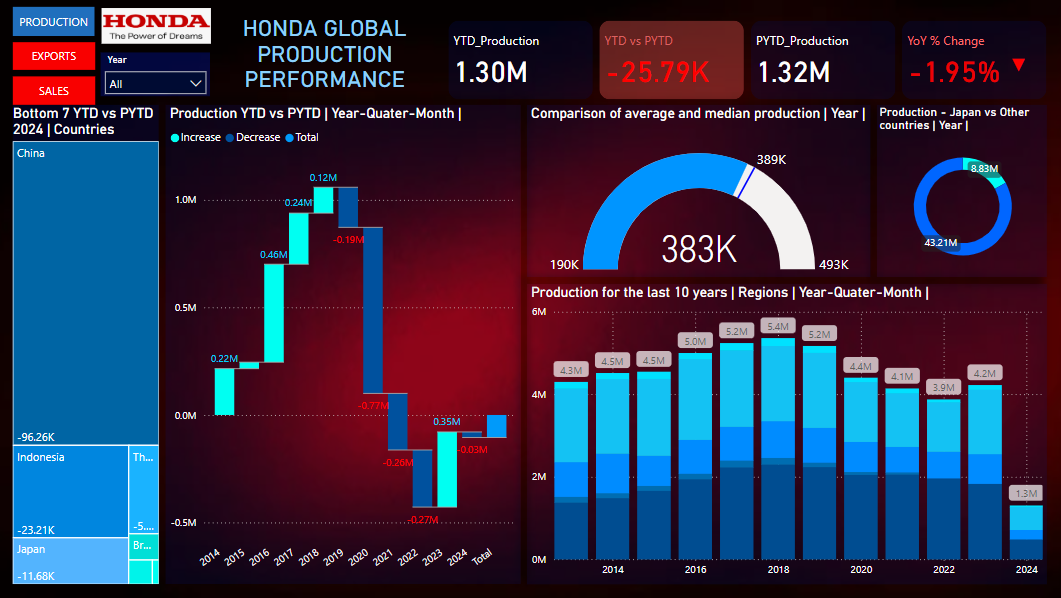

The dashboard page shown, as its layout file describes it:
{"tool":"powerbi","page":{"name":"Performance Report","canvas":[1280,720],"ordinal":0},"visuals":[{"type":"cardVisual","fields":{"Data":["_Measures.YTD_Production","_Measures.YTD_Production vs PYTD_Production","_Measures.PYTD_Production","_Measures.YoY_production_2024"]},"box":[541.2,24.5,721,95],"z":0},{"type":"lineStackedColumnComboChart","fields":{"Category":["Dim_date.Date.Variation.Date Hierarchy.Year","Dim_date.Date.Variation.Date Hierarchy.Quarter","Dim_date.Date.Variation.Date Hierarchy.Month"],"Series":["joined production 2013-24 pivot.Regions"],"Y":["Sum(joined production 2013-24 pivot.Value)"]},"box":[636.5,342,625.4,361],"z":1000},{"type":"treemap","title":"Bottom 7 YTD vs PYTD 2024 | Countries","fields":{"Group":["FY 2023-24 Production.Countries"],"Values":["_Measures.YTD_2024_Production vs PYTD_2024_Production"]},"box":[17.4,126.7,175.8,576.4],"z":2000},{"type":"slicer","fields":{"Values":["Dim_date.Date.Variation.Date Hierarchy.Year"]},"box":[123.5,63.3,132,52.3],"z":3000},{"type":"waterfallChart","fields":{"Y":["_Measures.YTD_Production vs PYTD_Production"],"Category":["Dim_date.Date.Variation.Date Hierarchy.Year","Dim_date.Date.Variation.Date Hierarchy.Quarter","Dim_date.Date.Variation.Date Hierarchy.Month"]},"box":[201.1,126.7,427,576.4],"z":4000},{"type":"donutChart","fields":{"Y":["Sum(joined production 2013-24.Japan)","Sum(joined production 2013-24.Outside of Japan)"]},"box":[1057.7,126.7,204.3,207.4],"z":5000},{"type":"actionButton","title":"Exports","box":[17.5,50.8,99.8,33.3],"z":7000},{"type":"actionButton","title":"Sales","box":[17,91.8,100.3,34],"z":8000},{"type":"gauge","fields":{"Y":["Avg(joined production 2013-24.Worldwide Total)"],"MinValue":["Min(joined production 2013-24.Worldwide Total)"],"MaxValue":["Max(joined production 2013-24.Worldwide Total)"],"TargetValue":["Median(joined production 2013-24.Worldwide Total)"]},"box":[636.5,126.7,413.3,207.4],"z":23000},{"type":"actionButton","title":"Production","box":[17.5,8.8,99.8,33.3],"z":26000},{"type":"image","box":[119.1,0,141.9,63.1],"z":29000},{"type":"card","fields":{"Values":["_Measures._Report_title"]},"box":[255.7,0,285.5,126.1],"z":30000},{"type":"card","fields":{"Values":["_Measures.YoY_%change_Icon_production"]},"box":[1209.7,63.3,34.8,31.7],"z":33000}]}

Visuals, with their boxes in screenshot pixels (x1, y1, x2, y2), scaled from the page's 1280x720 canvas onto the 1061x598 screenshot:
cardVisual - _Measures.YTD_Production x _Measures.YTD_Production vs PYTD_Production: x1=449 y1=20 x2=1046 y2=99
lineStackedColumnComboChart - Dim_date.Date.Variation.Date Hierarchy.Year x Dim_date.Date.Variation.Date Hierarchy.Quarter: x1=528 y1=284 x2=1046 y2=584
"Bottom 7 YTD vs PYTD 2024 | Countries" treemap: x1=14 y1=105 x2=160 y2=584
slicer - Dim_date.Date.Variation.Date Hierarchy.Year: x1=102 y1=53 x2=212 y2=96
waterfallChart - _Measures.YTD_Production vs PYTD_Production x Dim_date.Date.Variation.Date Hierarchy.Year: x1=167 y1=105 x2=521 y2=584
donutChart - Sum(joined production 2013-24.Japan) x Sum(joined production 2013-24.Outside of Japan): x1=877 y1=105 x2=1046 y2=277
"Exports" actionButton: x1=15 y1=42 x2=97 y2=70
"Sales" actionButton: x1=14 y1=76 x2=97 y2=104
gauge - Avg(joined production 2013-24.Worldwide Total) x Min(joined production 2013-24.Worldwide Total): x1=528 y1=105 x2=870 y2=277
"Production" actionButton: x1=15 y1=7 x2=97 y2=35
image: x1=99 y1=0 x2=216 y2=52
card - _Measures._Report_title: x1=212 y1=0 x2=449 y2=105
card - _Measures.YoY_%change_Icon_production: x1=1003 y1=53 x2=1032 y2=79
